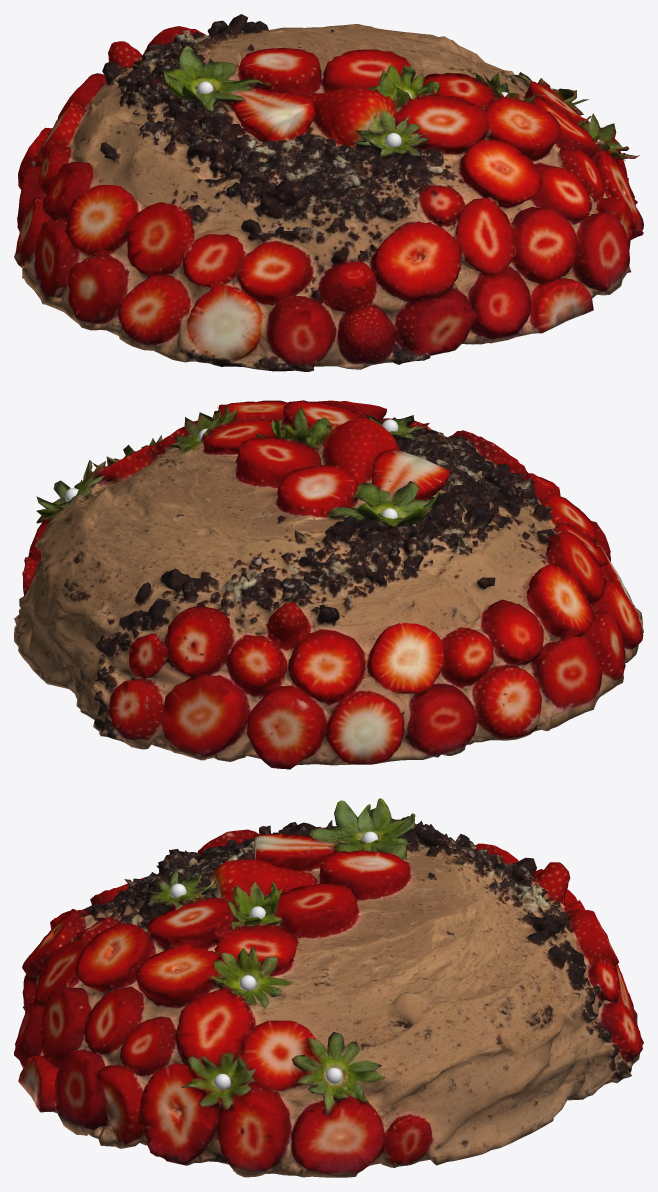
Rendered from strawberry-chocolate-cake.glb.
3 renders of one model, top to bottom at view 1: azimuth 30°, elevation 25°; view 2: azimuth 150°, elevation 25°; view 3: azimuth 270°, elevation 25°, orthographic. The views are drawn at different scales.
Parts seen in each view (by area): view 1: strawberry_chocolate_cake; view 2: strawberry_chocolate_cake; view 3: strawberry_chocolate_cake.
Boxes of the visible parts, x1,y1,x2,y2 form: strawberry_chocolate_cake: (14,14,643,371); strawberry_chocolate_cake: (14,400,643,769); strawberry_chocolate_cake: (14,798,643,1177).
Size of the model in its own units: 0.2443 by 0.0792 by 0.2403.
Materials: 1 (1 with a texture image).
